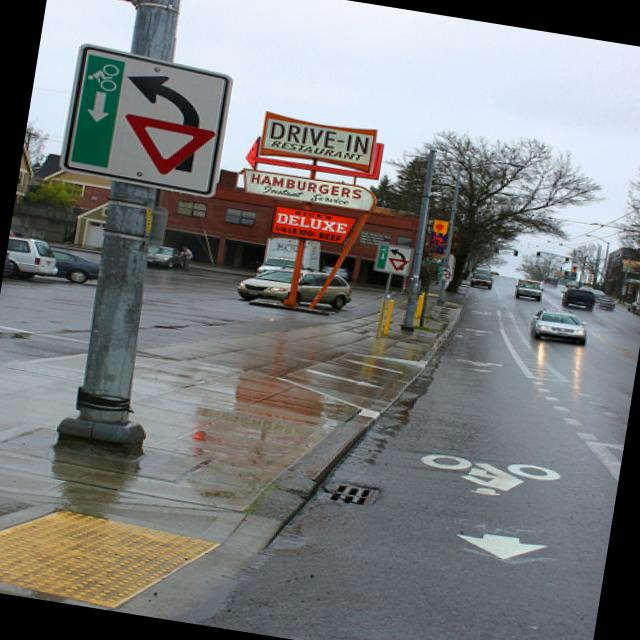Vehicle: (235, 260, 355, 318), (3, 235, 62, 284), (527, 304, 591, 348), (48, 250, 100, 285), (558, 286, 596, 312), (146, 244, 184, 268), (512, 282, 546, 302), (468, 272, 492, 290), (594, 296, 618, 311), (543, 276, 560, 288), (566, 280, 580, 288)
